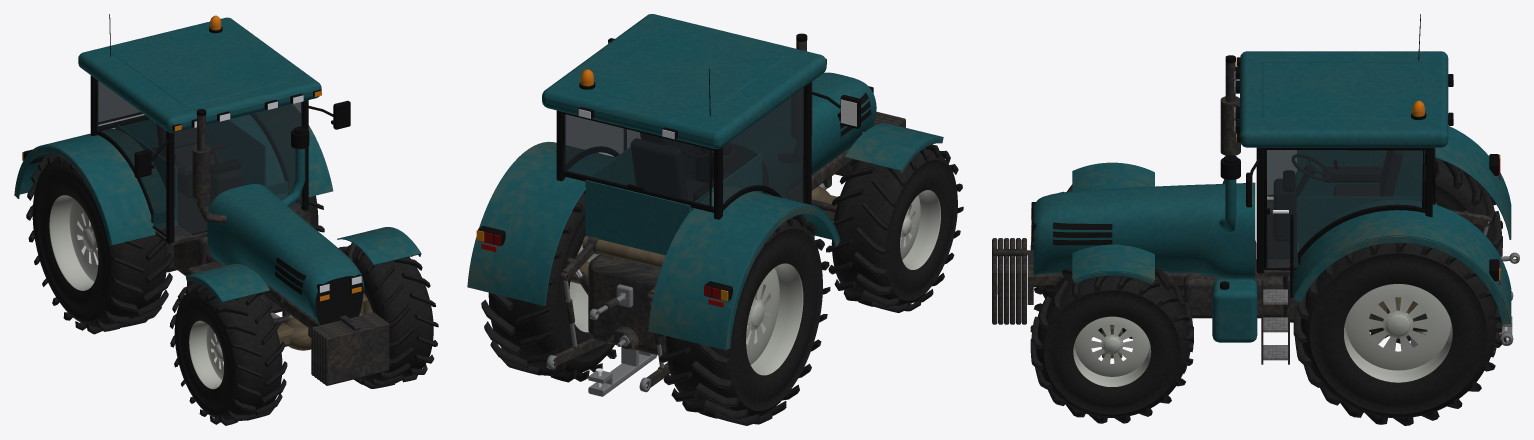
The model's file is tractor.glb.
3 views of the same model, side by side, from view 1: azimuth 30°, elevation 25°; view 2: azimuth 150°, elevation 25°; view 3: azimuth 270°, elevation 25° (orthographic). The views are drawn at different scales.
Parts seen in each view (by area): view 1: tractor, wheel_RR, wheel_FR, wheel_FL, steer_FL, steer_FR, door_L, rear_window, front_axle; view 2: tractor, wheel_RR, wheel_FR, wheel_RL, rear_window, steer_FR, door_L, lower_link_L, lift_arm_L; view 3: tractor, wheel_RL, wheel_FL, door_L, wheel_RR, steer_FL, steer_FR.
Boxes of the visible parts, x1,y1,x2,y2 form: tractor: (14,14,389,385); wheel_RR: (26,153,173,334); wheel_FR: (169,282,287,425); wheel_FL: (338,245,438,388); steer_FL: (337,227,421,314); steer_FR: (185,263,270,305); door_L: (252,102,300,203); rear_window: (98,81,142,124); front_axle: (277,293,368,350); tractor: (467,14,905,396); wheel_RR: (658,214,830,425); wheel_FR: (826,144,963,312); wheel_RL: (481,191,616,382); rear_window: (562,112,711,208); steer_FR: (844,123,943,174); door_L: (566,115,640,168); lower_link_L: (546,338,606,369); lift_arm_L: (560,236,598,280); tractor: (992,14,1512,364); wheel_RL: (1293,243,1502,425); wheel_FL: (1030,268,1193,423); door_L: (1264,149,1425,270); wheel_RR: (1370,158,1502,343); steer_FL: (1072,244,1154,355); steer_FR: (1072,162,1154,191).
Size of the model in its own units: 2.78 by 3.55 by 5.17.
Materials: 28 (10 with a texture image).
